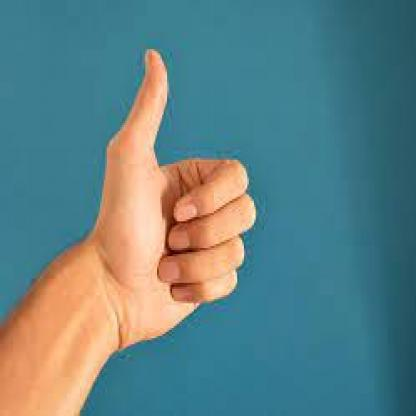thumb_up: (98, 45, 258, 341)
